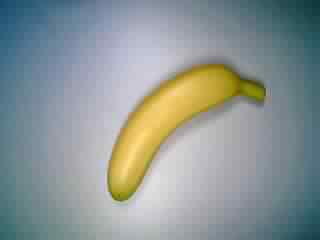banana: (104, 62, 271, 205)
